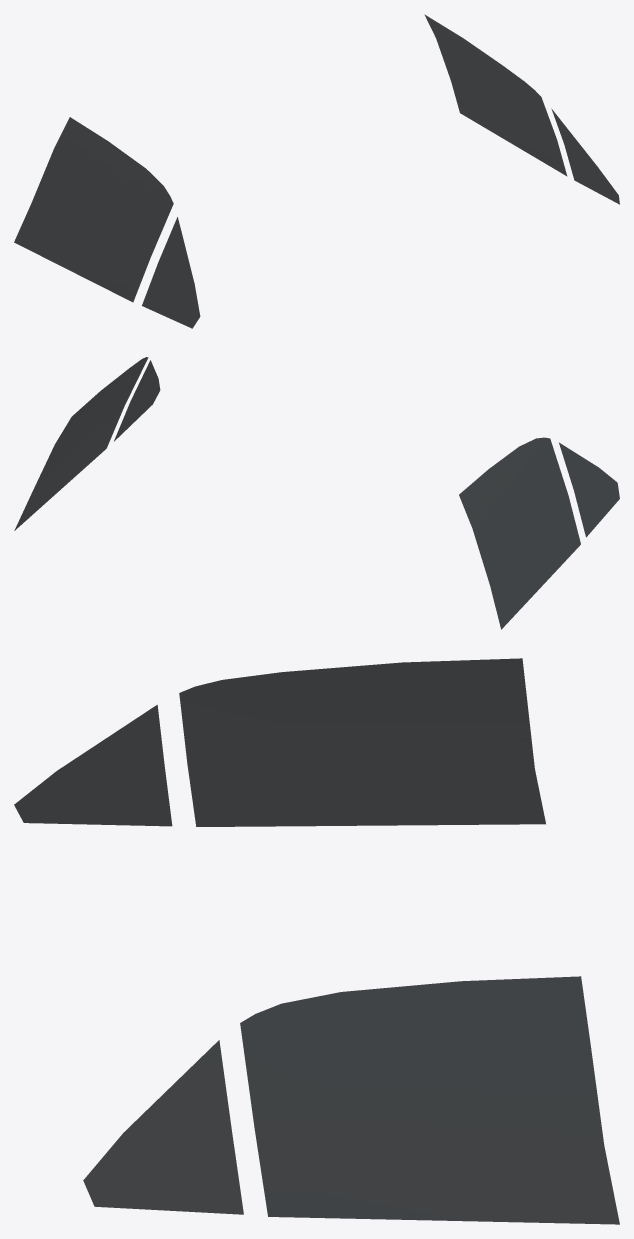
File: tozzo98_glass_body_ucb_lights_and_glass_transperent_0.005_lev3.glb
3 views of the same model, one above another, from view 1: azimuth 30°, elevation 25°; view 2: azimuth 150°, elevation 25°; view 3: azimuth 270°, elevation 25° (orthographic). The views are drawn at different scales.
Parts seen in each view (by area): view 1: tozzo98_glass_body_ucb_lights_and_glass_transperent_0.005_le; view 2: tozzo98_glass_body_ucb_lights_and_glass_transperent_0.005_le; view 3: tozzo98_glass_body_ucb_lights_and_glass_transperent_0.005_le.
Part boxes in pixels (left/top/right/bottom): tozzo98_glass_body_ucb_lights_and_glass_transperent_0.005_le: left=14, top=14, right=619, bottom=328; tozzo98_glass_body_ucb_lights_and_glass_transperent_0.005_le: left=14, top=357, right=619, bottom=629; tozzo98_glass_body_ucb_lights_and_glass_transperent_0.005_le: left=14, top=658, right=619, bottom=1224.
Size of the model in its own units: 1.45 by 0.3445 by 0.9093.
Materials: 1 (1 with a texture image).
